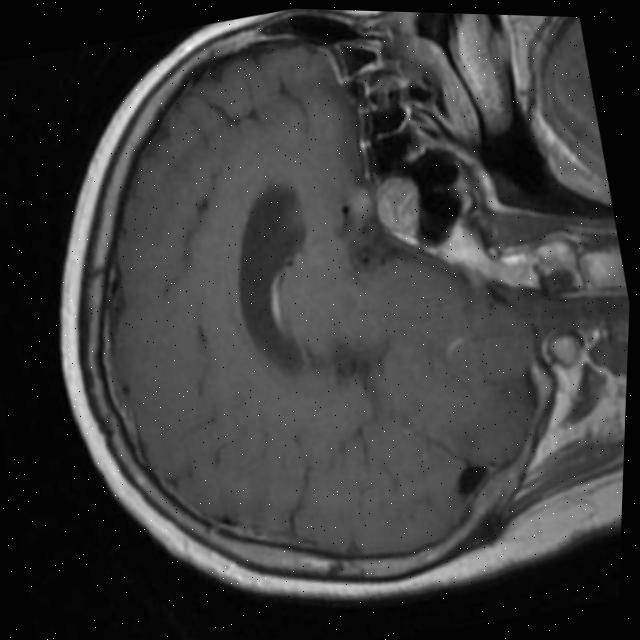Pituitary: (368, 166, 431, 252)
